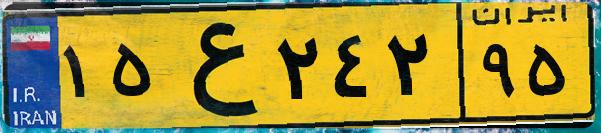1: (57, 26, 110, 100)
2: (270, 28, 330, 110), (385, 28, 445, 110)
4: (330, 28, 385, 110)
5: (525, 38, 570, 115), (110, 28, 158, 98)
9: (475, 38, 525, 113)
ع: (158, 12, 270, 120)
